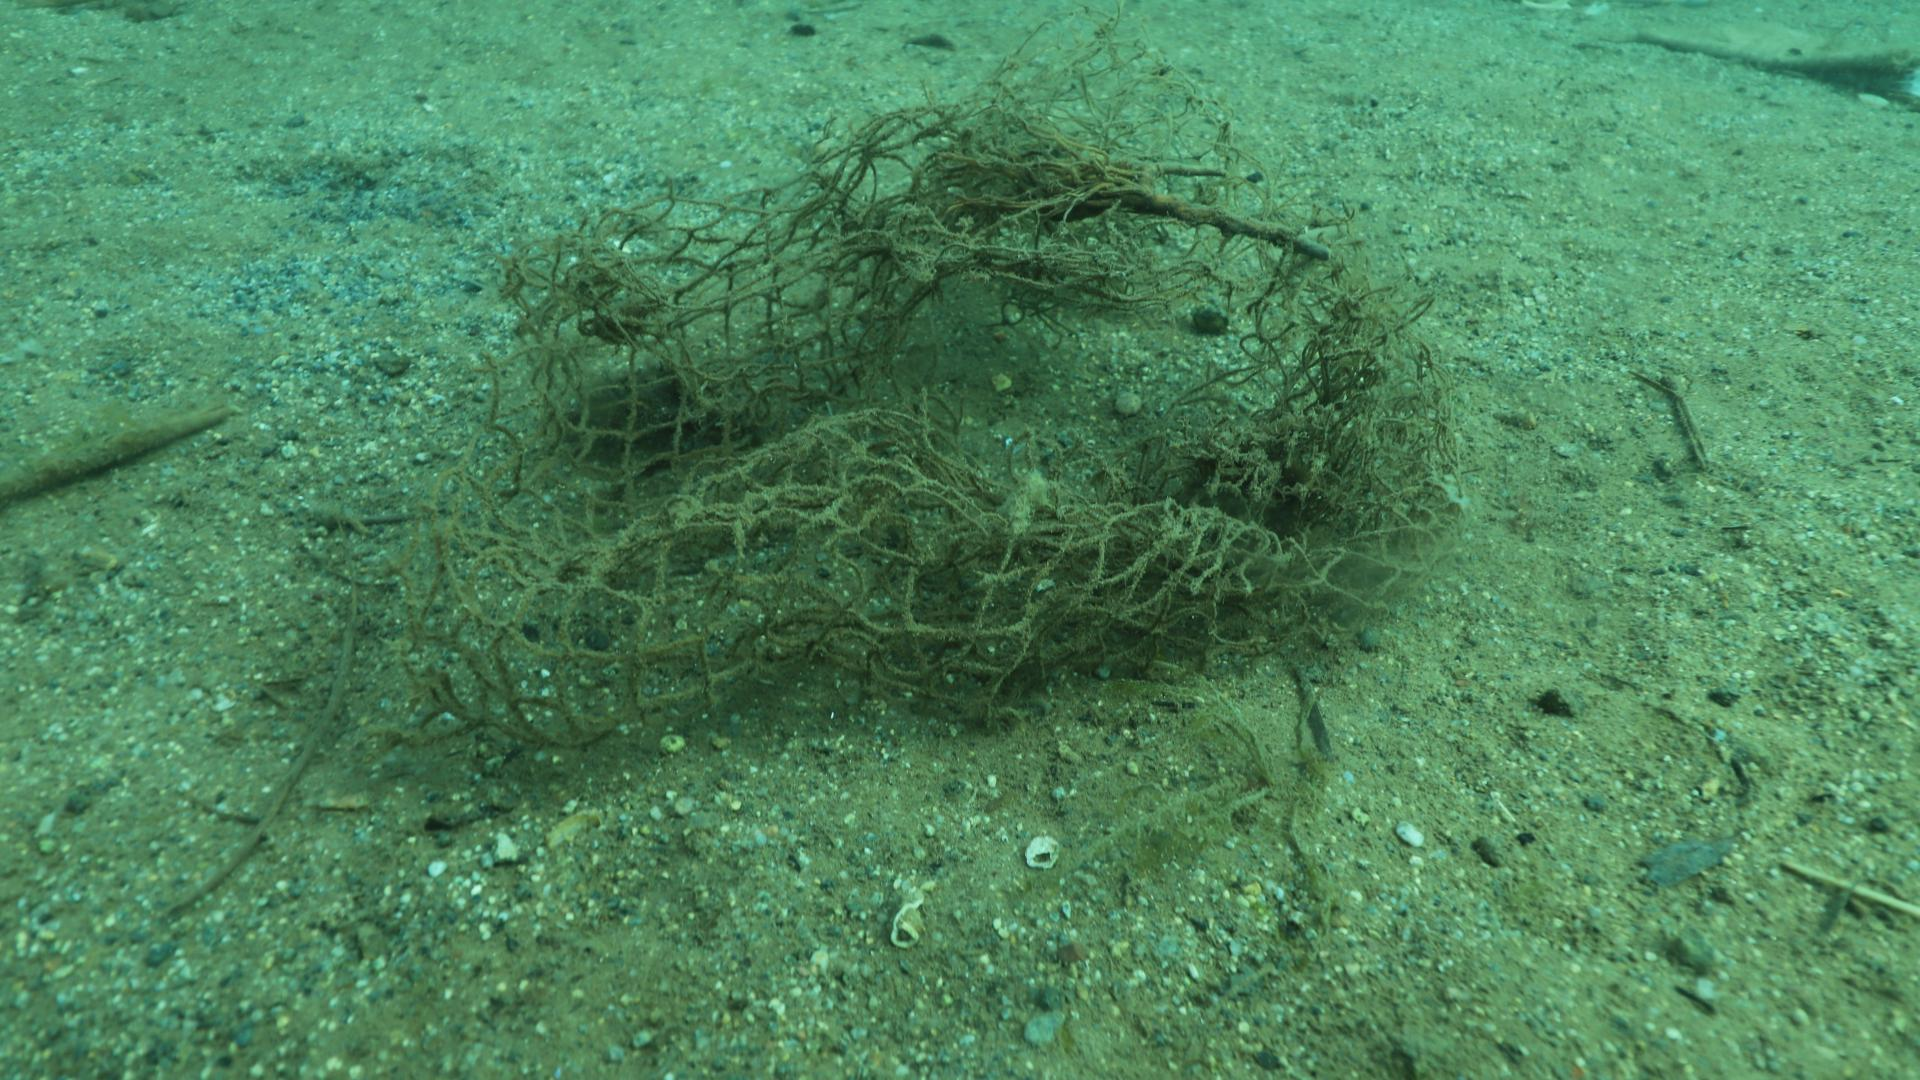fish net: (385, 187, 1400, 756)
